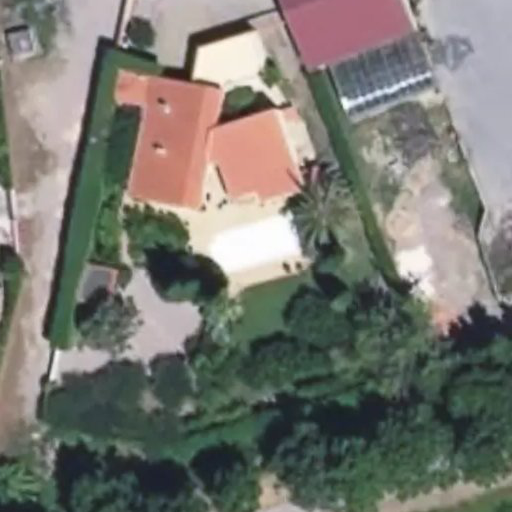pool: (208, 238, 301, 247)
